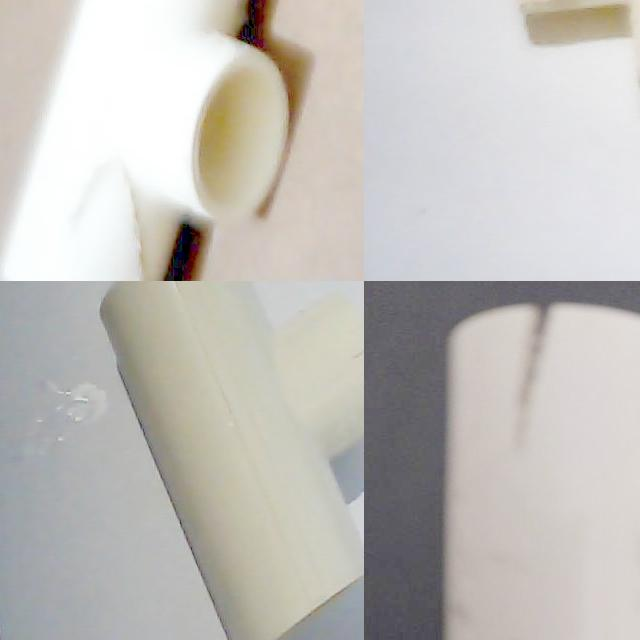Defective: (492, 298, 592, 486), (69, 155, 166, 281)
T Joint: (99, 281, 364, 640), (0, 0, 289, 281), (439, 302, 640, 640)
